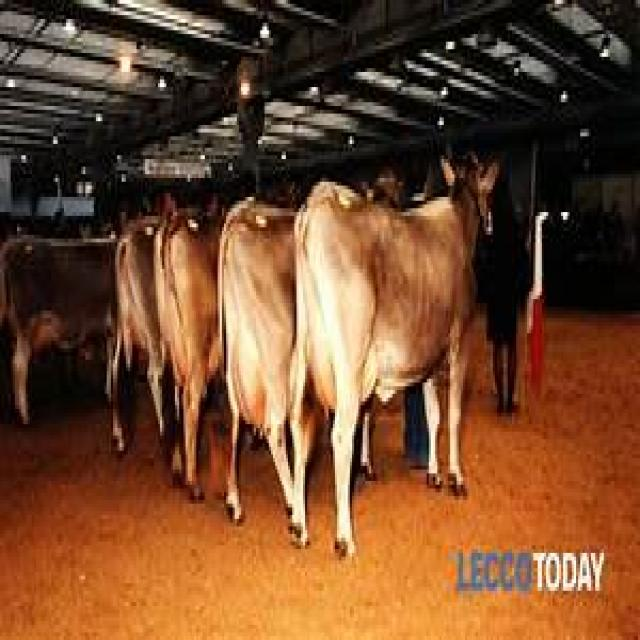cow: (291, 160, 496, 556), (220, 202, 295, 520), (0, 240, 112, 423), (154, 213, 221, 500), (112, 217, 164, 452)
